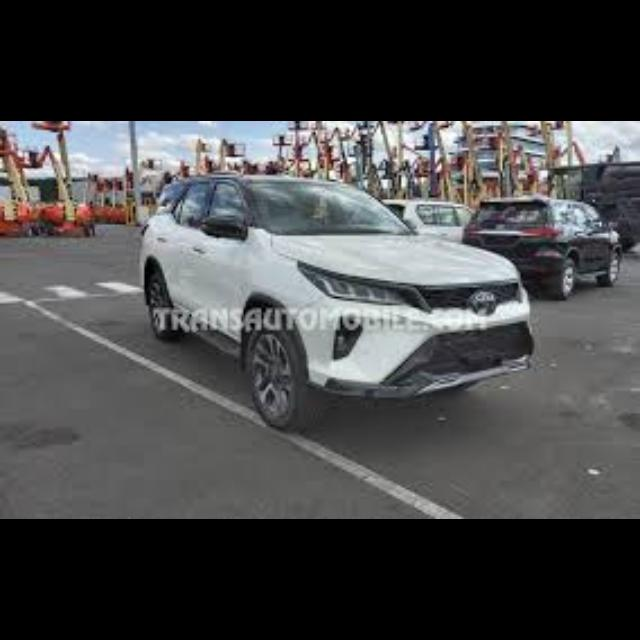number-plate: (451, 317, 522, 341)
vehicles: (136, 169, 539, 430), (458, 193, 620, 299), (379, 198, 474, 241)
